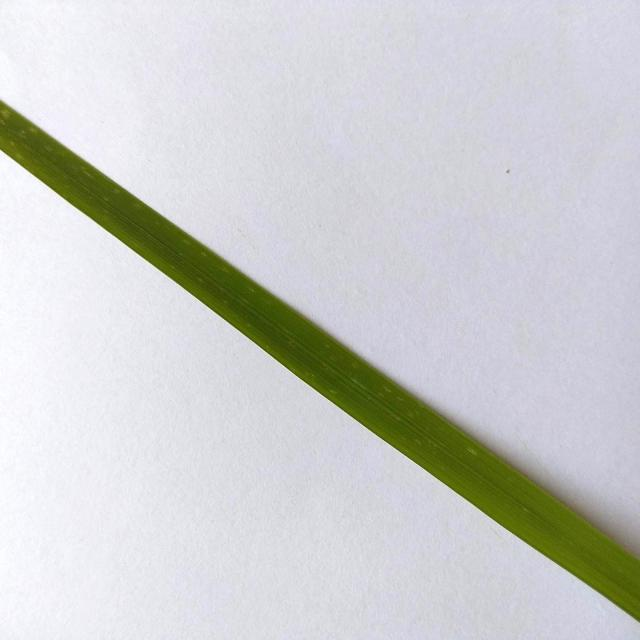healthy: (0, 71, 640, 620)
